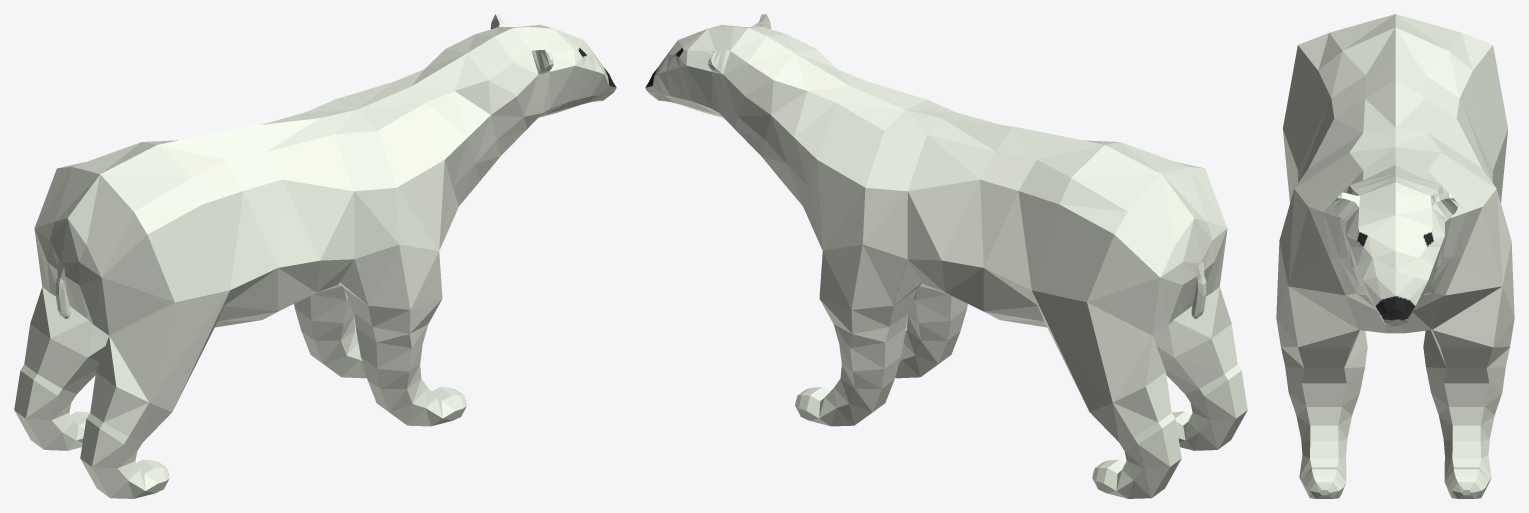
File: bear.fbx
3 views of the same model, side by side, from view 1: azimuth 30°, elevation 25°; view 2: azimuth 150°, elevation 25°; view 3: azimuth 270°, elevation 25° (orthographic). The views are drawn at different scales.
Parts seen in each view (by area): view 1: Polar Bear; view 2: Polar Bear; view 3: Polar Bear.
Boxes of the visible parts, x1,y1,x2,y2 form: Polar Bear: [14, 14, 616, 498]; Polar Bear: [645, 14, 1247, 498]; Polar Bear: [1276, 14, 1514, 498].
Bounding box in the file's own units: 487 × 282 × 167.
Materials: 1 (1 with a texture image).
